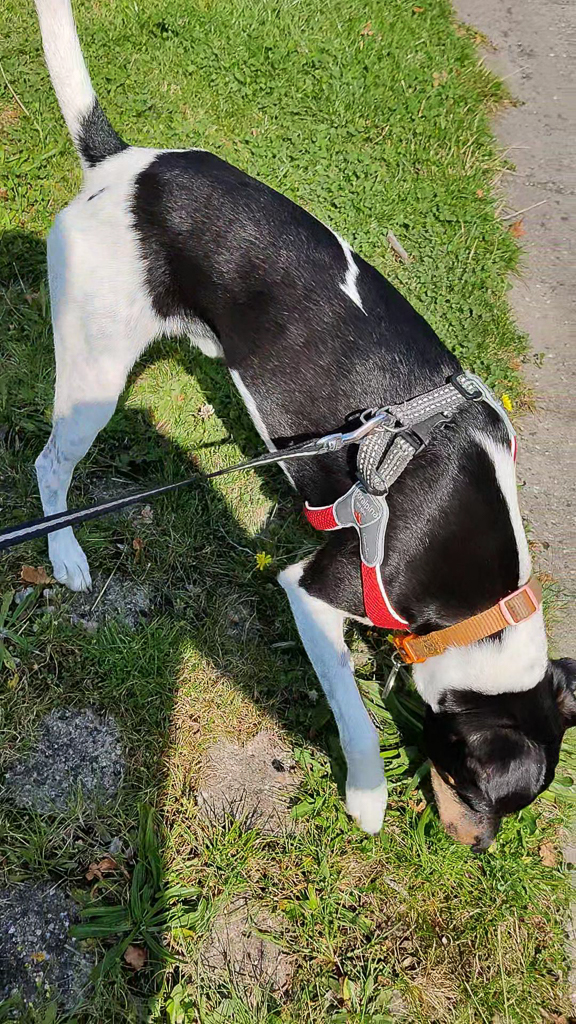Dog: (0, 0, 576, 872)
